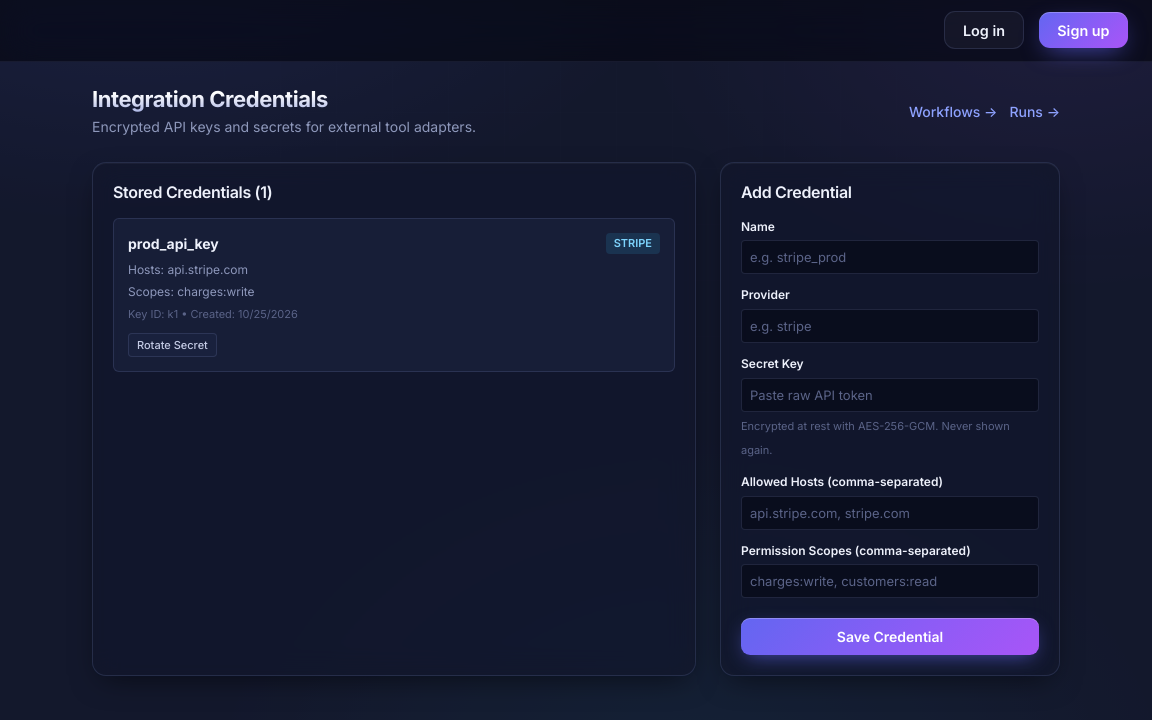
Test: Credentials Suite (P5-F03) › P9-F02: rotates credential secret and updates rotated_at
This screenshot has width=1152, height=720.
// Open rotate modal
Click the button with test id "rotate-cred-cred-1": (172,345) [128,333,217,357]
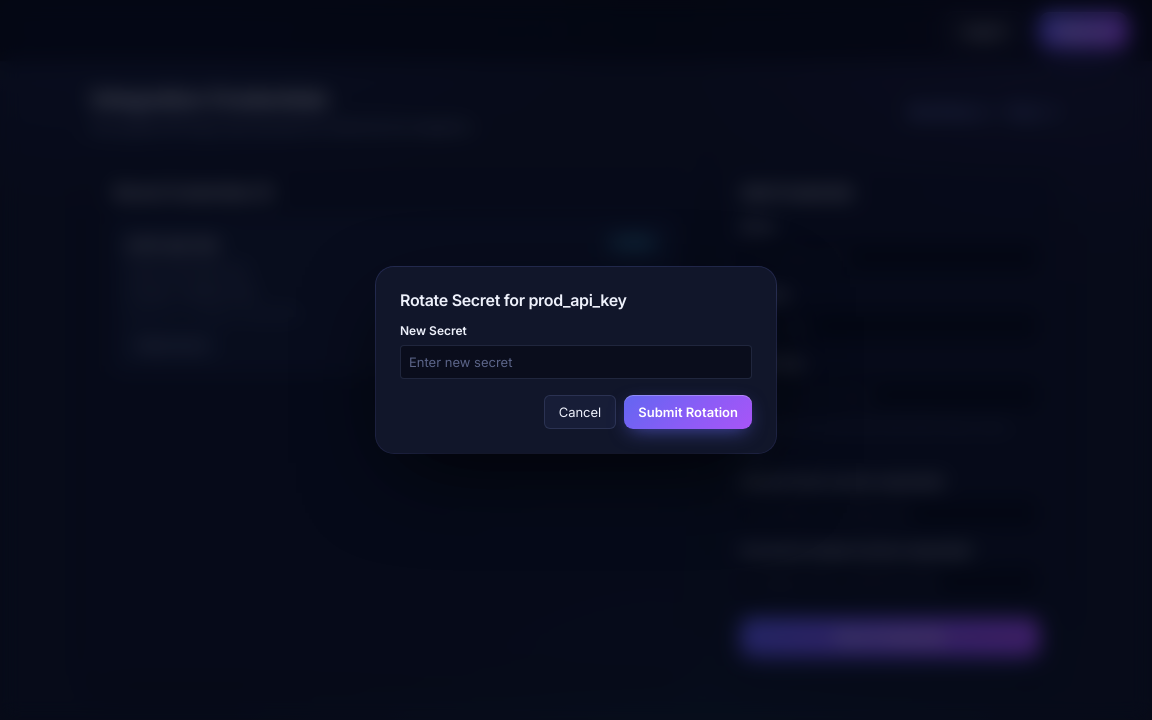
Check: the element with test id "rotate-secret-modal" is shown
// Fill new secret and submit
In the password field with test id "rotate-secret-input": (576,362) [400,345,752,379], type "new_super_secret_456"
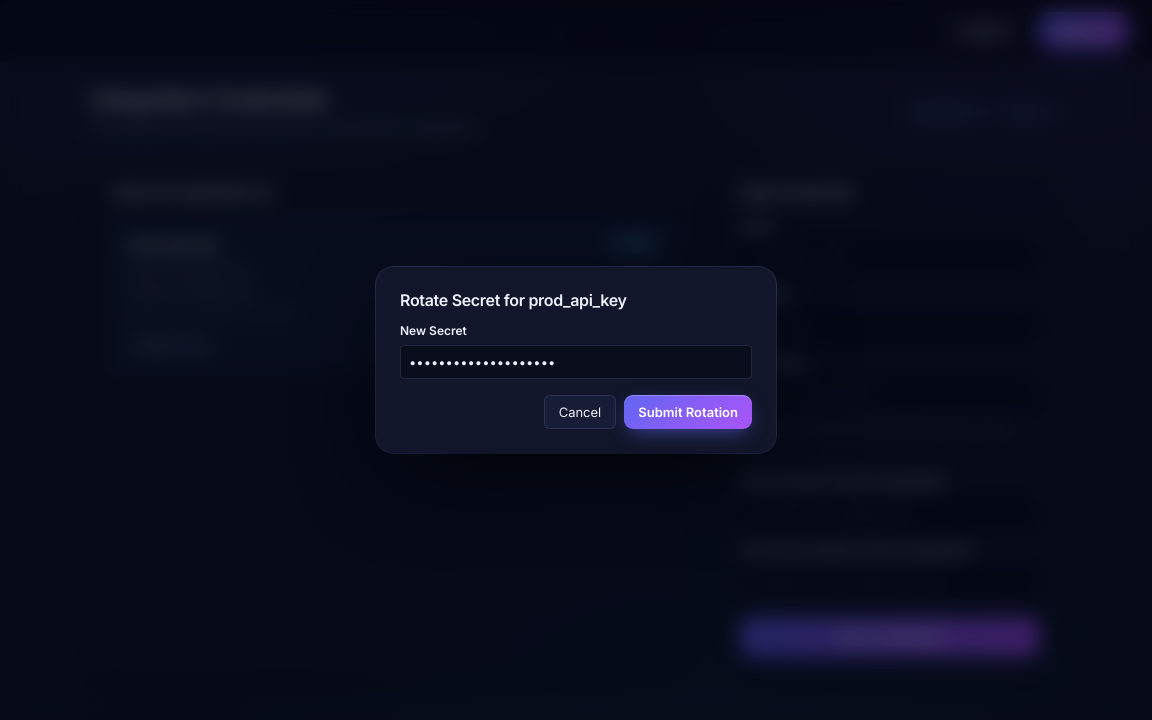
Click the button with test id "submit-rotate-btn": (688,412) [624,395,752,429]
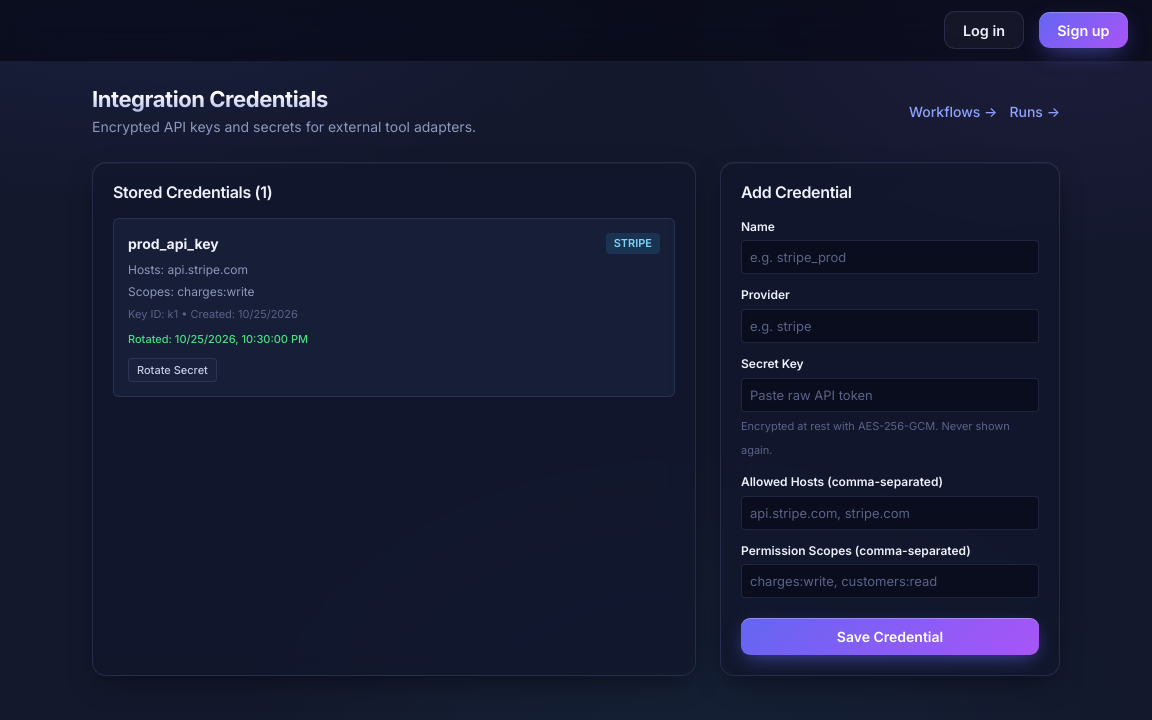
Check: the text with test id "cred-rotated-at-cred-1" shows "Rotated:", box [128,332,175,346]
